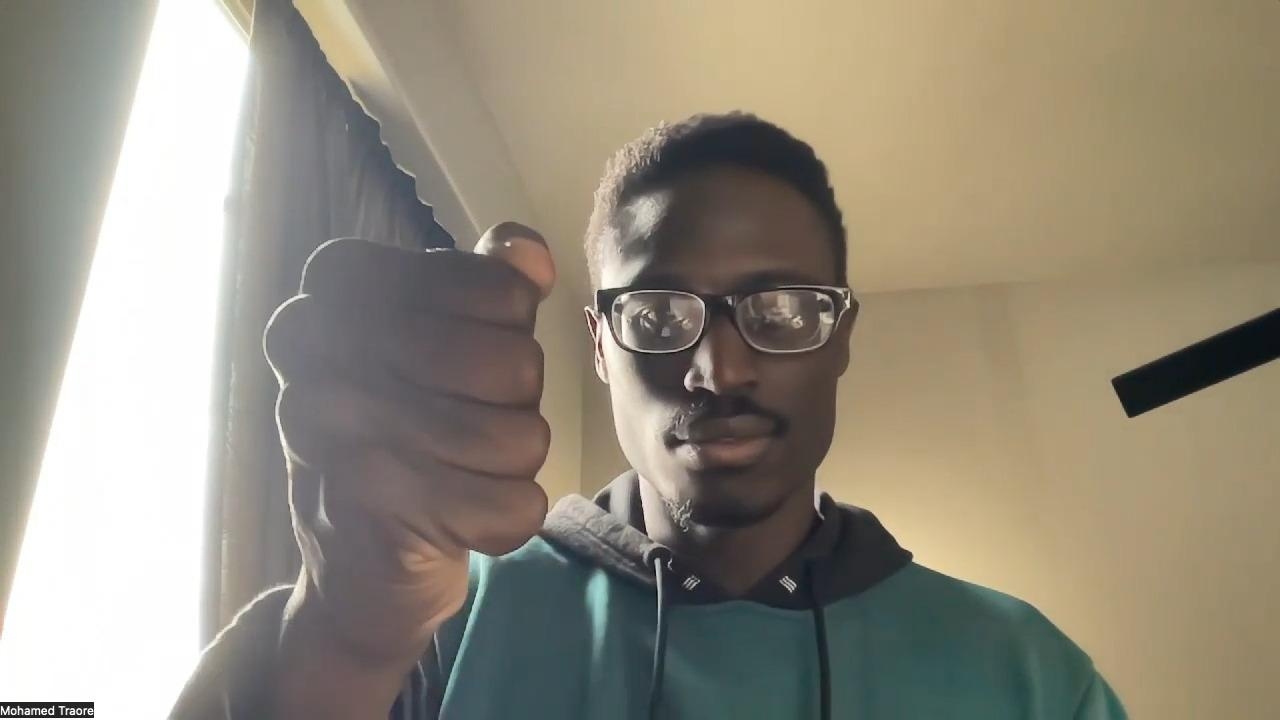Rock: (262, 220, 557, 652)
